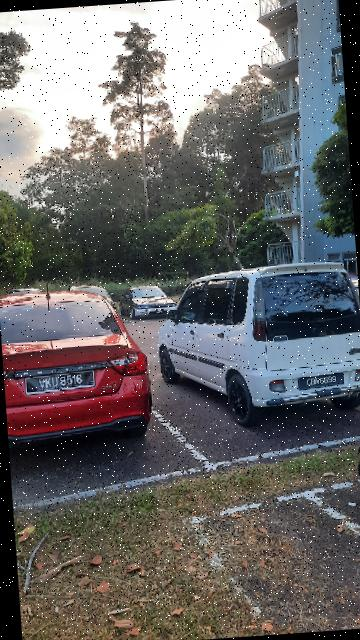License_Plate: (22, 372, 98, 396), (297, 372, 347, 390)
car: (151, 259, 360, 450), (1, 275, 158, 452)
